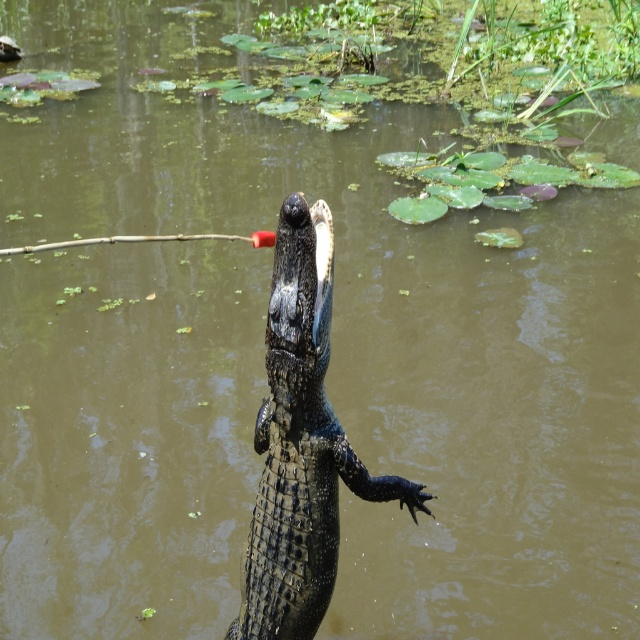Crocodile: (224, 191, 438, 639)
